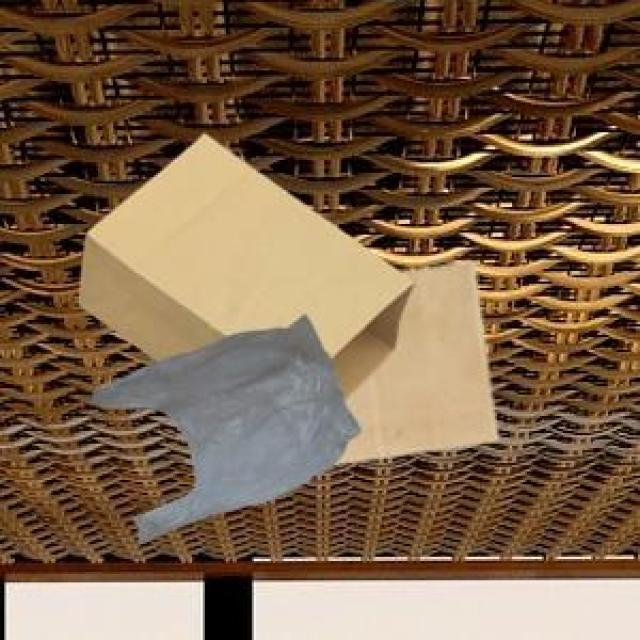paper: (75, 130, 410, 397), (333, 258, 493, 459)
